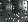person: (21, 2, 27, 12), (7, 3, 12, 13)
